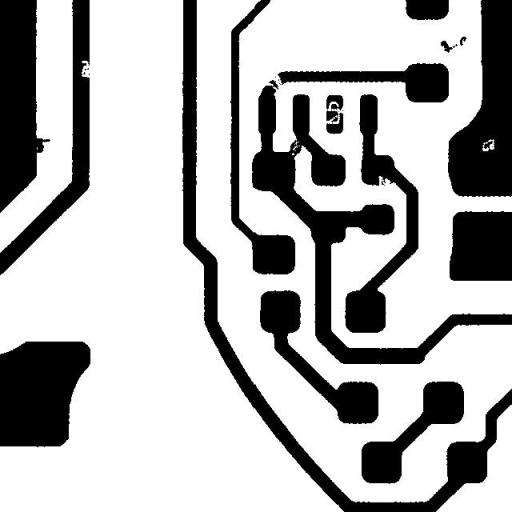copper: (432, 29, 474, 60)
mousebite: (370, 168, 398, 198), (74, 53, 99, 85)
open: (314, 94, 354, 131), (256, 66, 293, 104)
pin-hole: (474, 132, 502, 158)
short: (278, 131, 311, 166)
spur: (23, 130, 58, 160)
